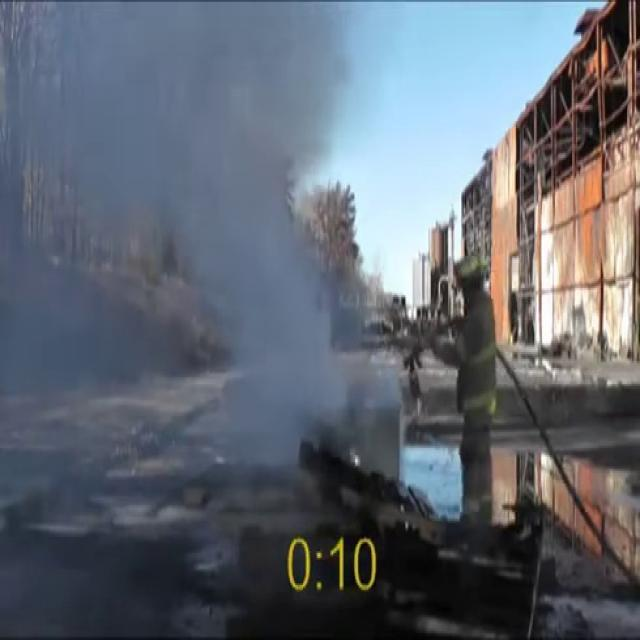Smoke: (0, 1, 366, 484)
